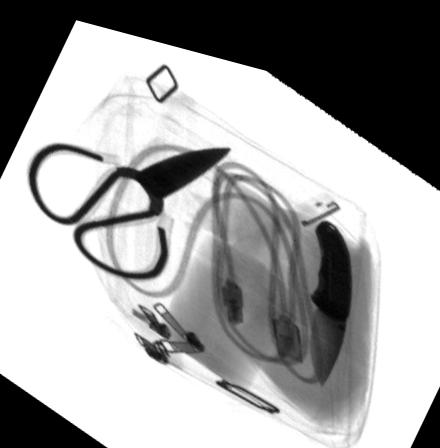Knife: (308, 200, 352, 371)
Scissors: (26, 137, 232, 273)
